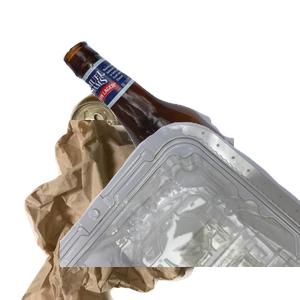glass: (60, 38, 300, 218)
metal: (67, 87, 206, 234)
plastic: (60, 120, 300, 300)
trash: (19, 120, 249, 300)
